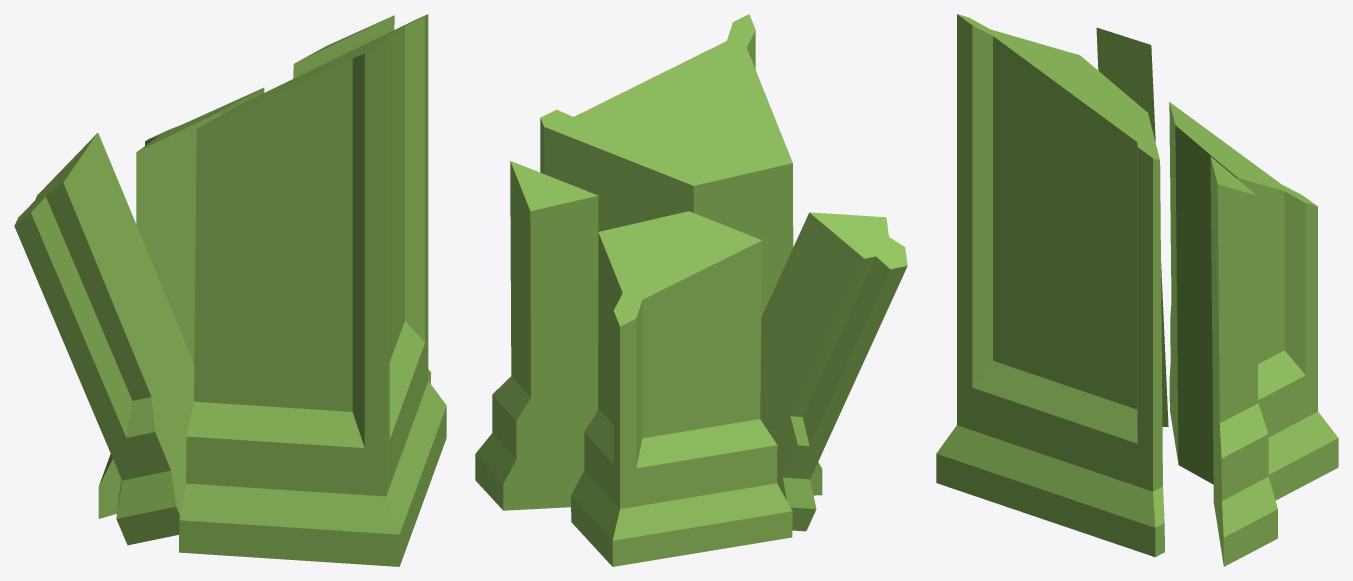
File: Debris13.obj
The picture shows the model from 3 angles, left to right: view 1: azimuth 30°, elevation 25°; view 2: azimuth 150°, elevation 25°; view 3: azimuth 270°, elevation 25°; orthographic projection. The views are drawn at different scales.
Parts seen in each view (by area): view 1: Debris13; view 2: Debris13; view 3: Debris13.
Boxes of the visible parts, x1,y1,x2,y2 form: Debris13: (14,14,446,566); Debris13: (475,14,907,566); Debris13: (936,14,1338,566).
Size of the model in its own units: 7.6 by 8.1 by 6.13.
